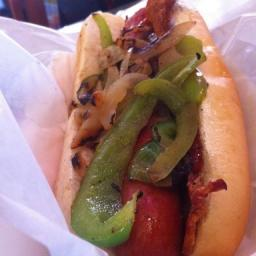hotdog: (114, 169, 193, 256), (126, 100, 184, 182), (122, 8, 174, 83)
